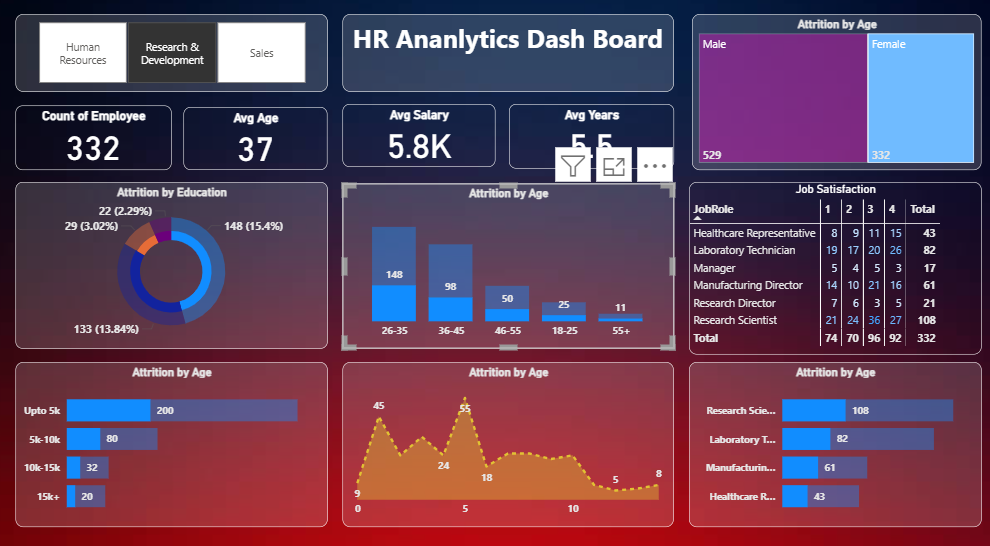

Layout of this report page (visuals, bound fields, positions):
{"tool":"powerbi","page":{"name":"Page 1","canvas":[1280,720],"ordinal":0},"visuals":[{"type":"card","title":"Count of Employee","fields":{"Values":["CountNonNull(HR_Analytics.EmpID)"]},"box":[35.9,141.7,196.5,81.3],"z":0},{"type":"card","title":"Avg Age","fields":{"Values":["Avg(HR_Analytics.Age)"]},"box":[247.6,143.6,181.4,79.4],"z":1000},{"type":"card","title":"Avg Salary","fields":{"Values":["Avg(HR_Analytics.MonthlyIncome)"]},"box":[447.9,139.8,192.8,79.4],"z":2000},{"type":"card","title":"Avg Years","fields":{"Values":["Avg(HR_Analytics.YearsAtCompany)"]},"box":[657.6,139.8,207.9,81.3],"z":3000},{"type":"donutChart","title":"Attrition by Education","fields":{"Category":["HR_Analytics.EducationField"],"Y":["CountNonNull(HR_Analytics.AttritionCount)"]},"box":[35.9,238.1,393.1,209.8],"z":4000},{"type":"columnChart","title":"Attrition by Age","fields":{"Category":["HR_Analytics.AgeGroup"],"Y":["CountNonNull(HR_Analytics.AttritionCount)"]},"box":[447.9,240,417.6,207.9],"z":5000},{"type":"pivotTable","title":"Job Satisfaction","fields":{"Rows":["HR_Analytics.JobRole"],"Columns":["HR_Analytics.JobSatisfaction"],"Values":["CountNonNull(HR_Analytics.AttritionCount)"]},"box":[884.4,238.1,368.5,217.3],"z":6000},{"type":"barChart","title":"Attrition by Age","fields":{"Category":["HR_Analytics.SalarySlab"],"Y":["CountNonNull(HR_Analytics.AttritionCount)"]},"box":[35.9,464.9,393.1,207.9],"z":7000},{"type":"barChart","title":"Attrition by Age","fields":{"Category":["HR_Analytics.JobRole"],"Y":["CountNonNull(HR_Analytics.AttritionCount)"]},"box":[884.4,464.9,368.5,207.9],"z":8000},{"type":"areaChart","title":"Attrition by Age","fields":{"Category":["HR_Analytics.YearsAtCompany"],"Y":["CountNonNull(HR_Analytics.AttritionCount)"]},"box":[447.9,464.9,417.6,207.9],"z":9000},{"type":"treemap","title":"Attrition by Age","fields":{"Group":["HR_Analytics.Gender"],"Values":["CountNonNull(HR_Analytics.AttritionCount)"]},"box":[888.2,26.5,364.7,196.5],"z":10000},{"type":"slicer","fields":{"Values":["HR_Analytics.Department"]},"box":[35.9,26.5,393.1,98.3],"z":11000},{"type":"textbox","box":[447.9,26.5,417.6,98.3],"z":12000}]}

Visuals, with their boxes in screenshot pixels (x1, y1, x2, y2), scaled from the page's 1280x720 canvas onto the 990x546 screenshot:
"Count of Employee" card: {"x1": 28, "y1": 107, "x2": 180, "y2": 169}
"Avg Age" card: {"x1": 192, "y1": 109, "x2": 332, "y2": 169}
"Avg Salary" card: {"x1": 346, "y1": 106, "x2": 496, "y2": 166}
"Avg Years" card: {"x1": 509, "y1": 106, "x2": 669, "y2": 168}
"Attrition by Education" donutChart: {"x1": 28, "y1": 181, "x2": 332, "y2": 340}
"Attrition by Age" columnChart: {"x1": 346, "y1": 182, "x2": 669, "y2": 340}
"Job Satisfaction" pivotTable: {"x1": 684, "y1": 181, "x2": 969, "y2": 345}
"Attrition by Age" barChart: {"x1": 28, "y1": 353, "x2": 332, "y2": 510}
"Attrition by Age" barChart: {"x1": 684, "y1": 353, "x2": 969, "y2": 510}
"Attrition by Age" areaChart: {"x1": 346, "y1": 353, "x2": 669, "y2": 510}
"Attrition by Age" treemap: {"x1": 687, "y1": 20, "x2": 969, "y2": 169}
slicer - HR_Analytics.Department: {"x1": 28, "y1": 20, "x2": 332, "y2": 95}
textbox: {"x1": 346, "y1": 20, "x2": 669, "y2": 95}
